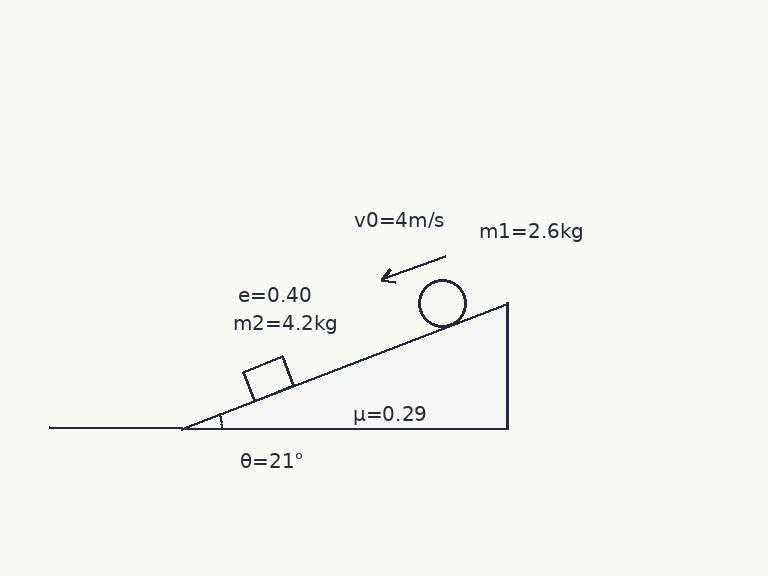ball: (416, 277, 468, 329)
block: (241, 355, 295, 402)
ramp: (180, 301, 509, 430)
